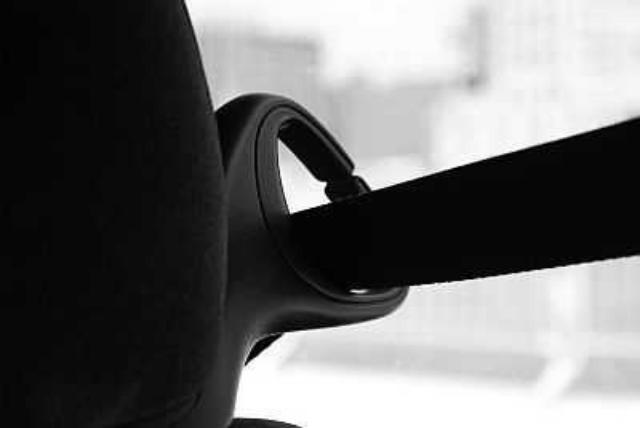Seatbelt: (226, 87, 640, 345)
